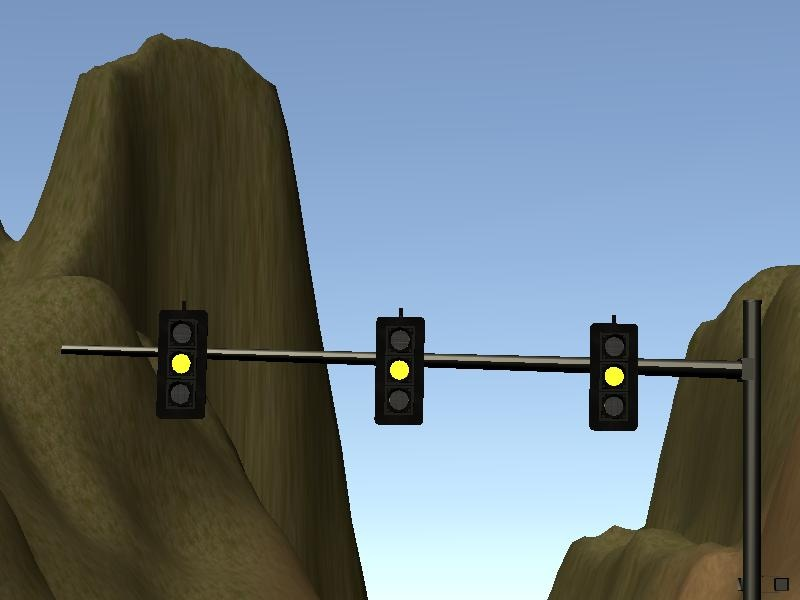yellow: (154, 308, 207, 419), (374, 316, 423, 427), (589, 319, 637, 430)
